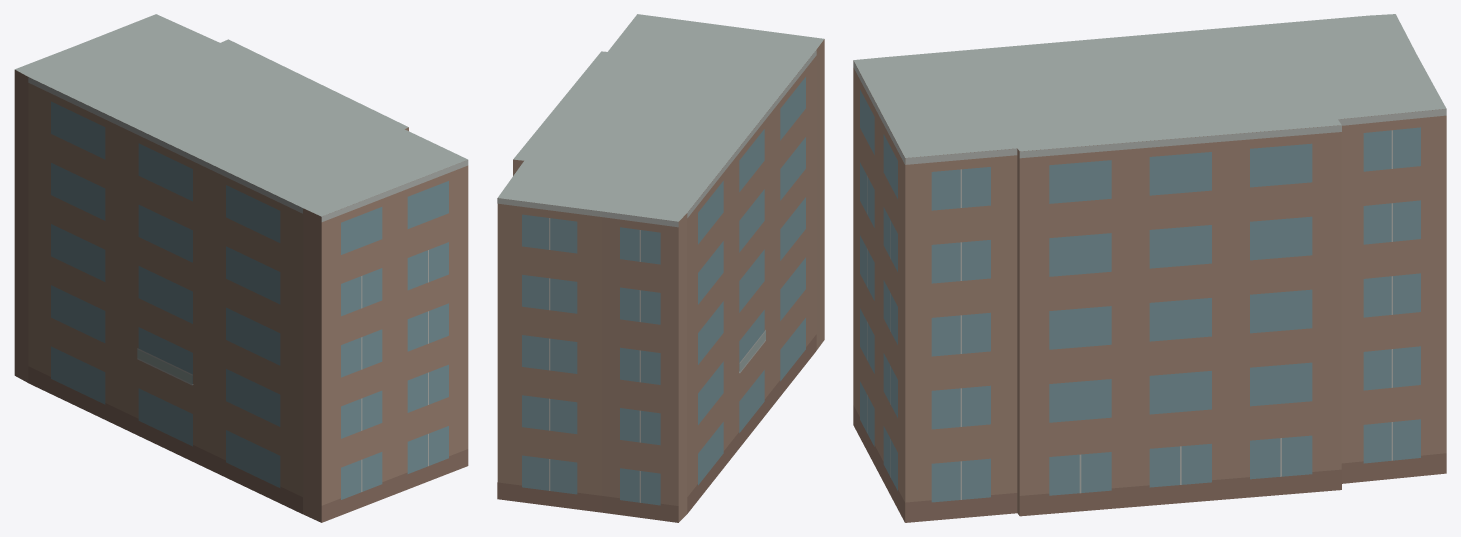
The model's file is survey-upis-32709143.glb.
The picture shows the model from 3 angles, left to right: view 1: azimuth 30°, elevation 25°; view 2: azimuth 150°, elevation 25°; view 3: azimuth 270°, elevation 25°; orthographic projection. The views are drawn at different scales.
Visible parts, largest first — view 1: survey-upis-32709143.tmp; view 2: survey-upis-32709143.tmp; view 3: survey-upis-32709143.tmp.
Part boxes in pixels (x1,y1,x2,y2): survey-upis-32709143.tmp: (14,14,468,522); survey-upis-32709143.tmp: (497,14,824,522); survey-upis-32709143.tmp: (853,14,1446,522).
Size of the model in its own units: 11.02 by 13 by 19.17.
